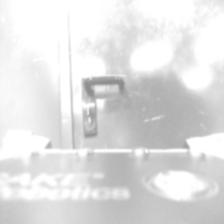Door Handle: (84, 75, 126, 92)
Lock: (85, 105, 93, 123)
